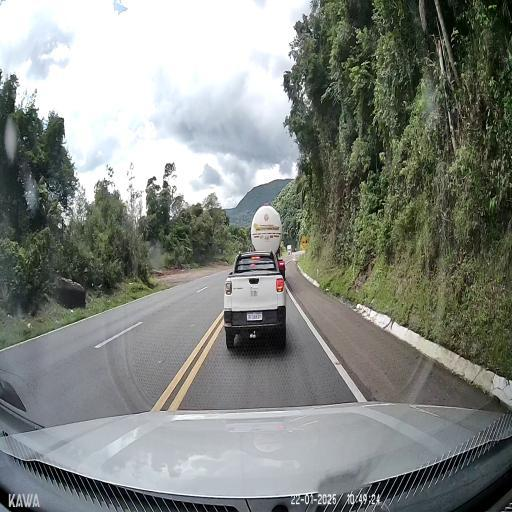A-27: (300, 236, 308, 248)
